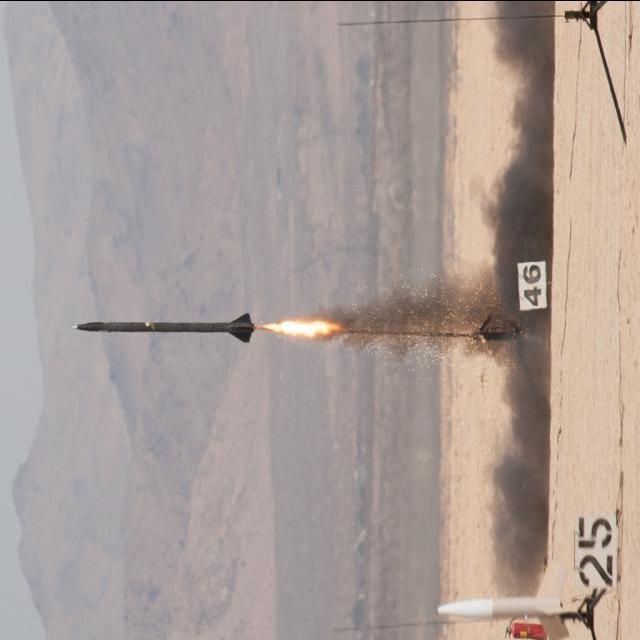missile: (75, 315, 253, 343), (438, 594, 594, 622)
